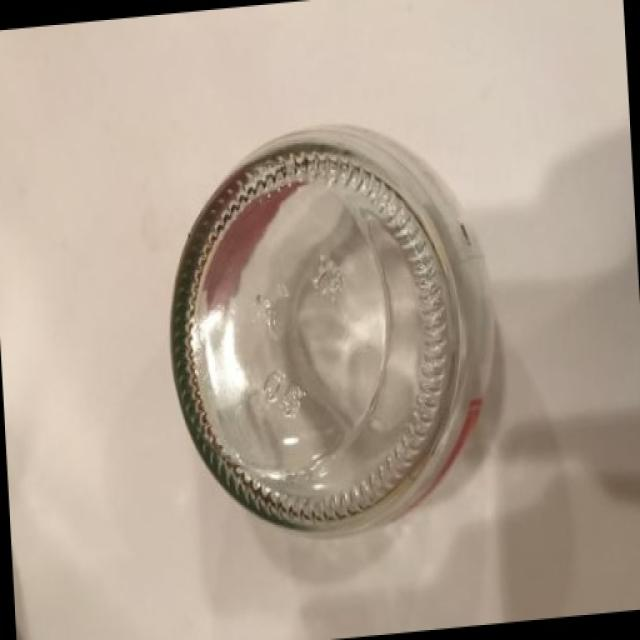vidrio: (126, 80, 552, 590)
